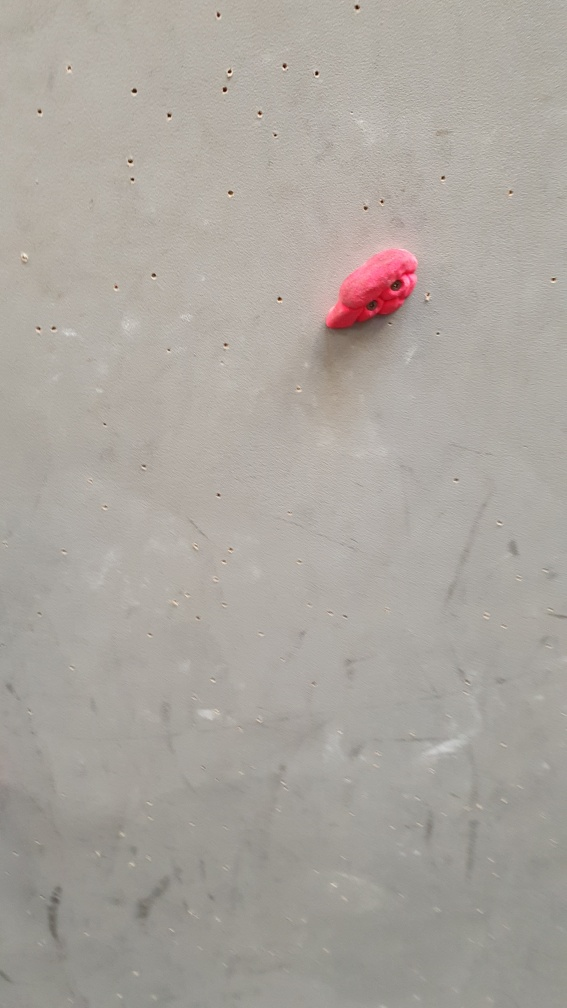Jug: (321, 246, 422, 337)
